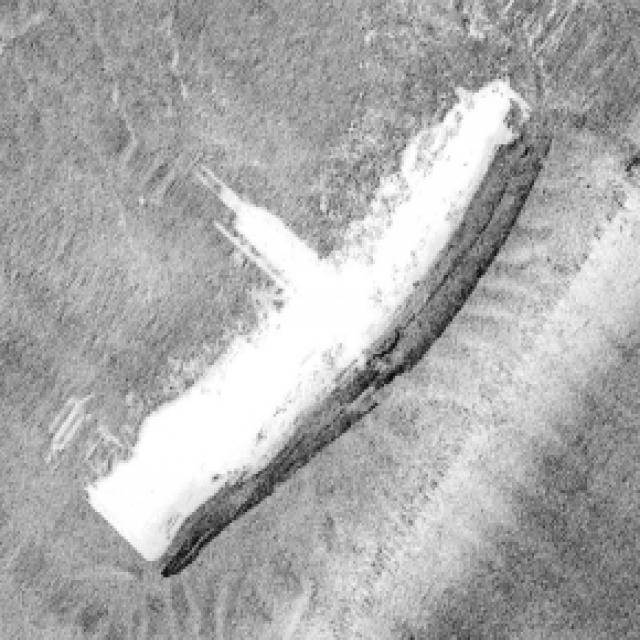ship: (58, 96, 558, 566)
